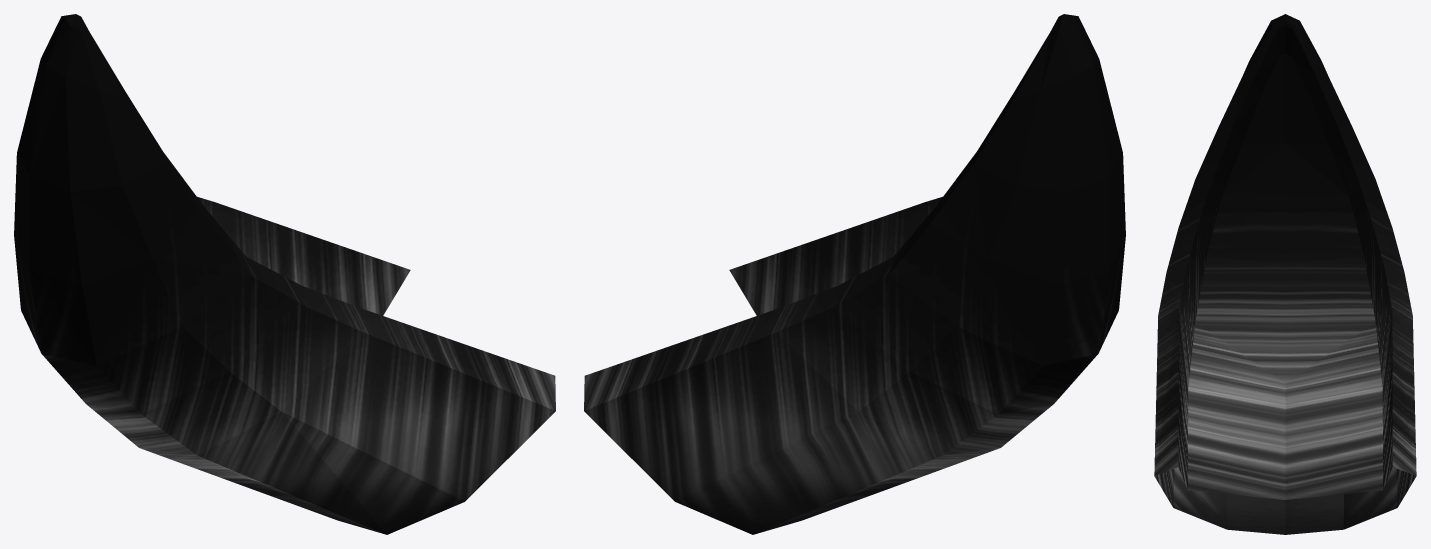
Rendered from 0472_xiaoqian.glb.
3 renders of one model, left to right at view 1: azimuth 30°, elevation 25°; view 2: azimuth 150°, elevation 25°; view 3: azimuth 270°, elevation 25°, orthographic. The views are drawn at different scales.
Size of the model in its own units: 1.83 by 2.2 by 1.23.
1 material, 1 textured.
